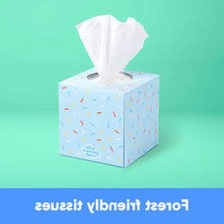book: (52, 61, 164, 172)
tissue: (71, 10, 154, 85)
